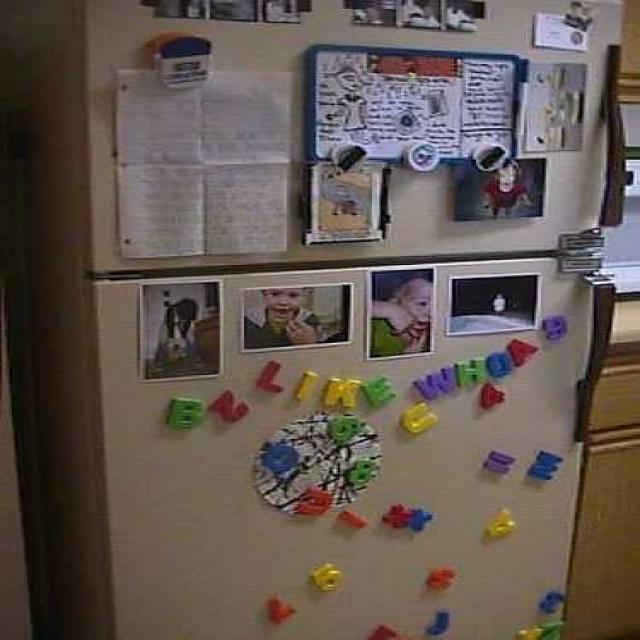refrigerator: (59, 1, 628, 640)
